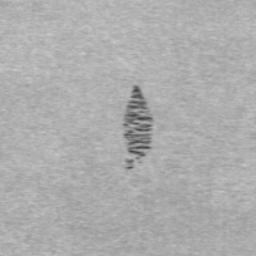Secondary rust skin: (123, 85, 152, 171)
